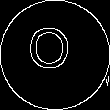O_S: (33, 29, 77, 81)
